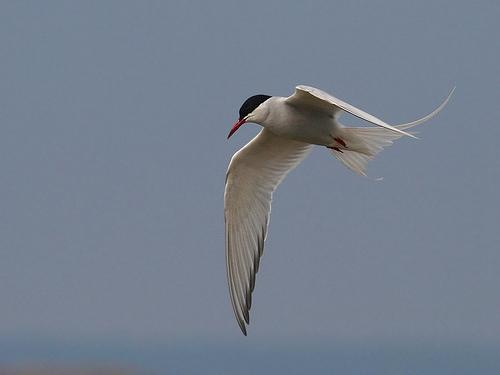bird: (220, 85, 451, 336)
